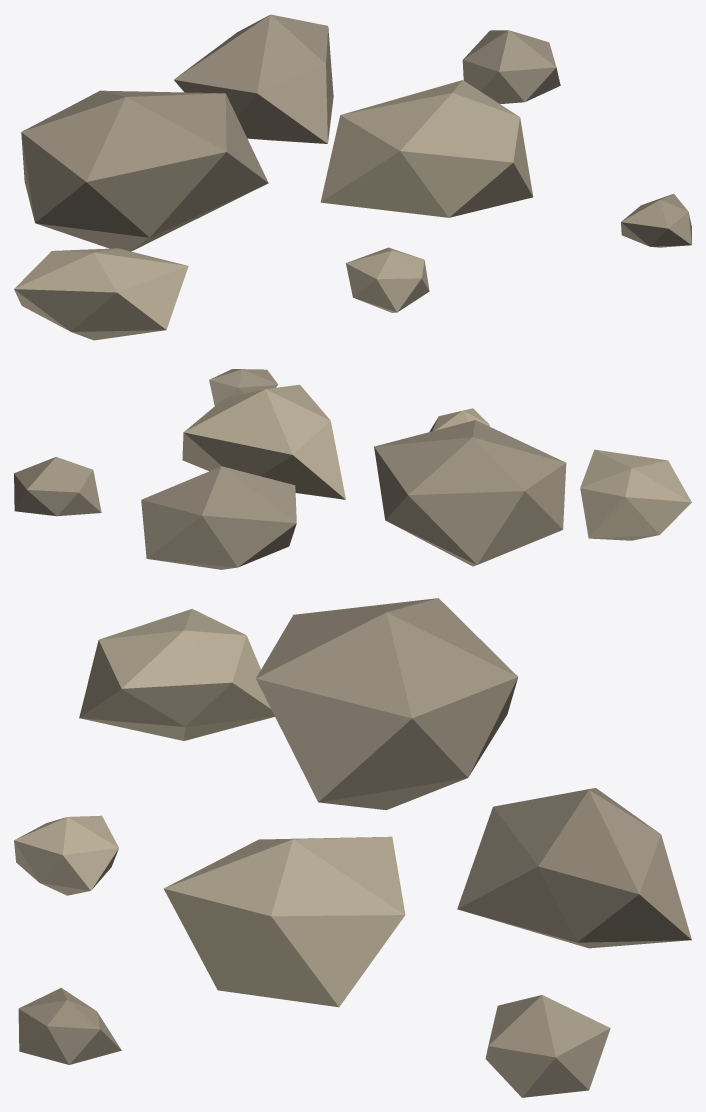
File: RoadsideRock1.glb
The picture shows the model from 3 angles, top to bottom: view 1: azimuth 30°, elevation 25°; view 2: azimuth 150°, elevation 25°; view 3: azimuth 270°, elevation 25°; orthographic projection. The views are drawn at different scales.
Parts seen in each view (by area): view 1: Gravel_00, Gravel_01, Gravel_02, Gravel_03, Gravel_04, Gravel_05, Gravel_06; view 2: Gravel_00, Gravel_02, Gravel_01, Gravel_03, Gravel_04, Gravel_06, Gravel_05; view 3: Gravel_00, Gravel_01, Gravel_02, Gravel_03, Gravel_04, Gravel_05, Gravel_06.
Boxes of the visible parts, left/top/right/bottom form: Gravel_00: left=21, top=90, right=268, bottom=251; Gravel_01: left=320, top=80, right=533, bottom=217; Gravel_02: left=174, top=14, right=333, bottom=143; Gravel_03: left=14, top=248, right=188, bottom=340; Gravel_04: left=462, top=30, right=560, bottom=104; Gravel_05: left=346, top=247, right=429, bottom=312; Gravel_06: left=621, top=193, right=691, bottom=247; Gravel_00: left=374, top=420, right=566, bottom=566; Gravel_02: left=141, top=466, right=296, bottom=569; Gravel_01: left=182, top=384, right=345, bottom=499; Gravel_03: left=580, top=449, right=691, bottom=540; Gravel_04: left=14, top=457, right=101, bottom=516; Gravel_06: left=209, top=369, right=278, bottom=405; Gravel_05: left=429, top=408, right=489, bottom=431; Gravel_00: left=256, top=598, right=517, bottom=810; Gravel_01: left=163, top=836, right=405, bottom=1007; Gravel_02: left=457, top=788, right=691, bottom=948; Gravel_03: left=79, top=609, right=274, bottom=740; Gravel_04: left=485, top=995, right=610, bottom=1097; Gravel_05: left=14, top=815, right=118, bottom=895; Gravel_06: left=18, top=988, right=121, bottom=1064.
Bounding box in the file's own units: 1.27 × 0.2805 × 0.8708.
